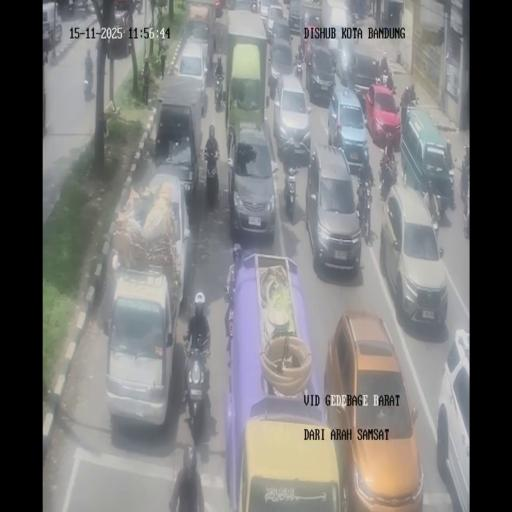3: (226, 251, 327, 508), (224, 9, 268, 132)
car: (326, 313, 424, 508), (104, 268, 178, 429), (381, 184, 447, 324), (305, 142, 361, 273), (139, 172, 193, 299), (226, 124, 277, 242), (401, 108, 455, 213), (436, 331, 468, 507), (175, 40, 209, 114), (347, 49, 382, 109), (307, 44, 337, 106), (267, 36, 294, 97), (107, 6, 134, 57), (42, 2, 62, 51), (266, 3, 288, 44), (302, 7, 322, 46), (288, 0, 304, 34), (69, 0, 89, 13), (259, 0, 270, 20)
truck: (182, 330, 211, 435), (356, 179, 374, 243), (282, 162, 299, 217), (204, 153, 220, 209), (380, 155, 396, 200), (360, 146, 375, 190), (224, 298, 233, 362), (338, 43, 352, 83), (443, 172, 456, 212), (376, 66, 395, 91), (462, 182, 470, 237), (402, 86, 419, 108), (214, 74, 224, 110), (83, 68, 94, 100), (430, 208, 440, 242), (400, 98, 409, 132), (294, 53, 304, 83), (444, 139, 453, 169), (330, 45, 339, 71), (50, 49, 57, 66), (267, 39, 272, 62), (351, 10, 358, 26), (134, 0, 142, 14), (226, 0, 236, 10), (251, 0, 258, 12), (43, 50, 49, 64)
